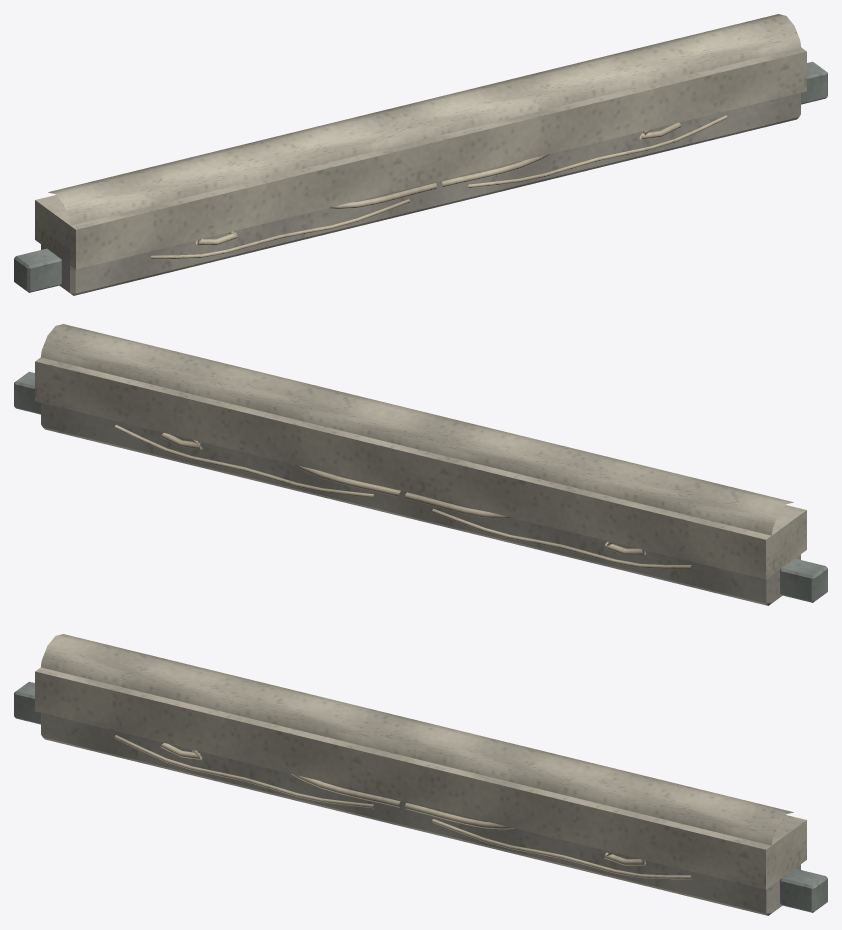
3 views of the same model, one above another, from view 1: azimuth 30°, elevation 25°; view 2: azimuth 150°, elevation 25°; view 3: azimuth 330°, elevation 25° (orthographic).
Visible parts, largest first — view 1: D07_light, D07_stone, D07_relief, D07_cool; view 2: D07_light, D07_stone, D07_relief, D07_cool; view 3: D07_light, D07_stone, D07_relief, D07_cool.
Boxes of the visible parts, x1,y1,x2,y2 form: D07_light: (35,14,806,269); D07_stone: (41,93,800,295); D07_relief: (150,115,727,259); D07_cool: (14,61,827,292); D07_light: (35,324,806,579); D07_stone: (41,403,800,605); D07_relief: (114,425,691,568); D07_cool: (14,371,827,602); D07_light: (35,634,806,889); D07_stone: (41,713,800,915); D07_relief: (114,735,691,879); D07_cool: (14,681,827,912).
Size of the model in its own units: 2.52 by 0.2768 by 0.222.
4 materials, 4 textured.
